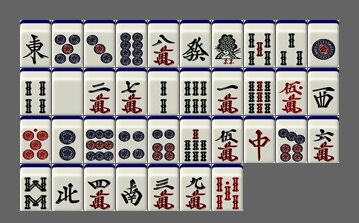0m: (276, 68, 307, 115)
0p: (20, 116, 51, 163)
0s: (212, 164, 243, 211)
1m: (212, 68, 243, 115)
1p: (308, 20, 339, 67)
1s: (212, 20, 243, 67)
1z: (20, 20, 51, 67)
2m: (84, 68, 115, 115)
2p: (52, 116, 83, 163)
2s: (148, 68, 179, 115)
2z: (116, 164, 147, 211)
3m: (148, 164, 179, 211)
3p: (84, 20, 115, 67)
3s: (276, 20, 307, 67)
3z: (308, 68, 339, 115)
4m: (84, 164, 115, 211)
4p: (116, 116, 147, 163)
4s: (20, 68, 51, 115)
4z: (52, 164, 83, 211)
5m: (212, 116, 243, 163)
5p: (52, 20, 83, 67)
5s: (244, 20, 275, 67)
5z: (52, 68, 83, 115)
6m: (308, 116, 339, 163)
6p: (148, 116, 179, 163)
6s: (180, 68, 211, 115)
6z: (180, 20, 211, 67)
7m: (116, 68, 147, 115)
7p: (276, 116, 307, 163)
7s: (180, 116, 211, 163)
7z: (244, 116, 275, 163)
8m: (148, 20, 179, 67)
8p: (116, 20, 147, 67)
8s: (20, 164, 51, 211)
9m: (180, 164, 211, 211)
9p: (84, 116, 115, 163)
9s: (244, 68, 275, 115)
